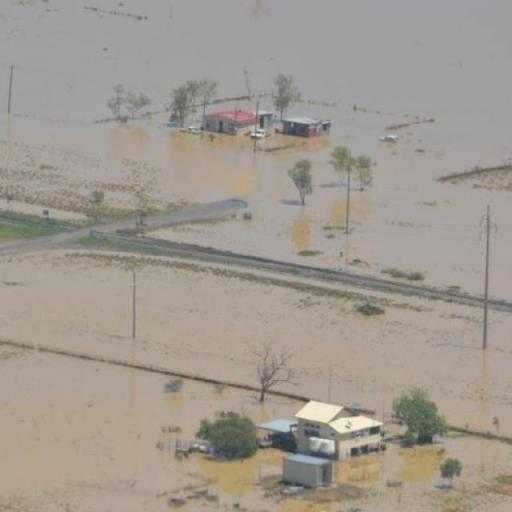flood: (0, 0, 512, 300), (0, 252, 512, 436), (0, 346, 512, 512)
house: (296, 398, 384, 460), (202, 106, 261, 136), (280, 115, 334, 139)
